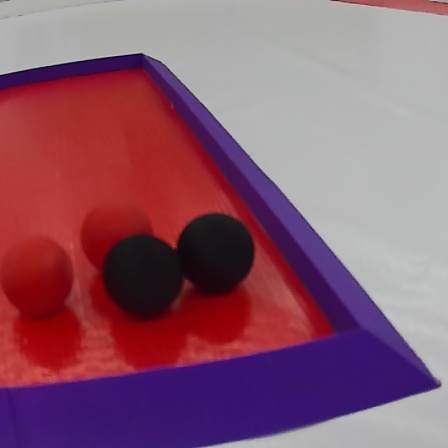black: (100, 231, 184, 325), (177, 209, 257, 298)
red: (0, 234, 74, 321), (81, 199, 153, 271)
red_aim: (2, 49, 440, 444)
